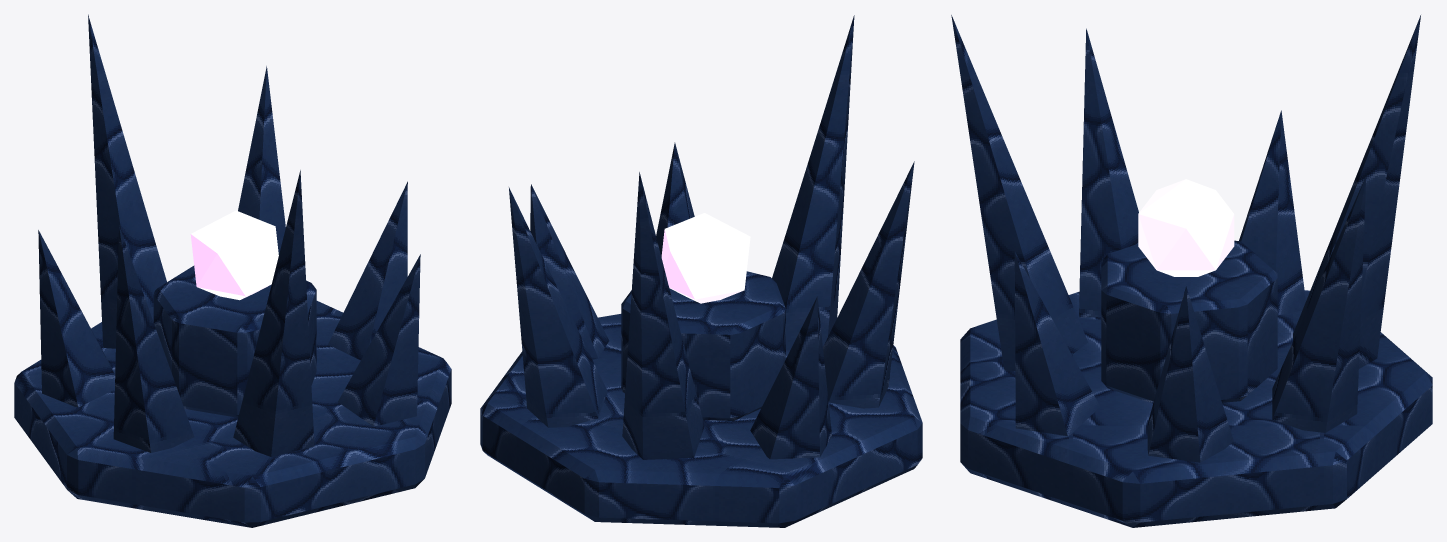
Rendered from greed.glb.
3 renders of one model, left to right at view 1: azimuth 30°, elevation 25°; view 2: azimuth 150°, elevation 25°; view 3: azimuth 270°, elevation 25°, orthographic. The views are drawn at different scales.
Visible parts, largest first — view 1: Base, Bowl, Spike5, Spike2, Spike4, Spike6, Spike3, Flame, Spike0, Spike1; view 2: Base, Spike2, Bowl, Spike5, Spike1, Spike4, Spike3, Flame, Spike0, Spike6; view 3: Base, Bowl, Spike5, Spike1, Spike2, Spike4, Spike6, Spike0, Flame, Spike3.
Boxes of the visible parts, box(x1,y1,x2,y2) form: Base: box(14, 301, 451, 527); Bowl: box(153, 265, 316, 417); Spike5: box(233, 170, 314, 456); Spike2: box(88, 14, 166, 348); Spike4: box(113, 225, 194, 452); Spike6: box(338, 254, 420, 426); Spike3: box(38, 230, 115, 407); Flame: box(190, 210, 278, 300); Spike0: box(328, 181, 407, 360); Spike1: box(238, 66, 285, 254); Base: box(480, 314, 922, 527); Spike2: box(622, 172, 704, 459); Bowl: box(621, 271, 785, 420); Spike5: box(772, 15, 854, 350); Spike1: box(509, 187, 607, 427); Spike4: box(823, 161, 914, 408); Spike3: box(750, 296, 831, 459); Flame: box(661, 213, 750, 303); Spike0: box(530, 184, 609, 359); Spike6: box(656, 142, 694, 256); Base: box(960, 290, 1432, 527); Bowl: box(1101, 240, 1277, 403); Spike5: box(951, 15, 1088, 371); Spike1: box(1272, 176, 1366, 432); Spike2: box(1293, 15, 1420, 368); Spike4: box(1079, 28, 1138, 317); Spike6: box(1014, 251, 1100, 436); Spike0: box(1147, 286, 1233, 462); Flame: box(1138, 179, 1234, 276); Spike3: box(1239, 110, 1305, 315).
Bounding box in the file's own units: 3.86 × 3.45 × 3.84.
Materials: 2 (1 with a texture image).
